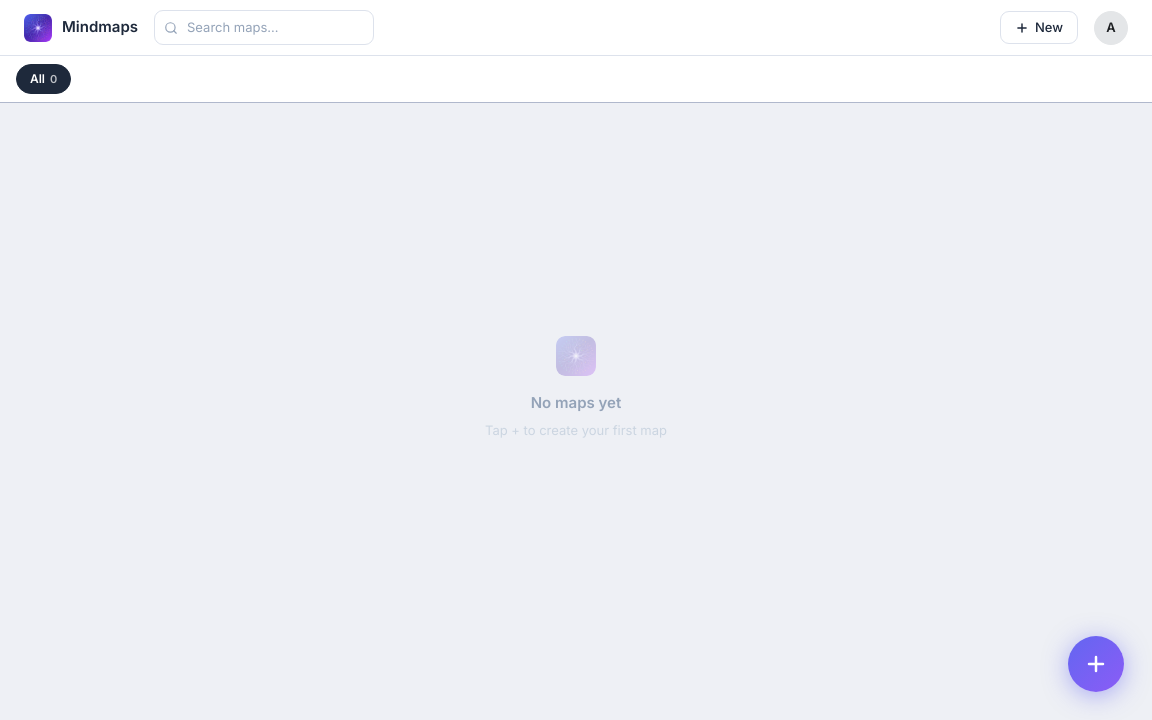
Scenario: HomePage — user menu & import › opens the import modal from the user menu
Click the button titled "Alice": (1111, 28) top-left (1094, 10), bottom-right (1128, 44)
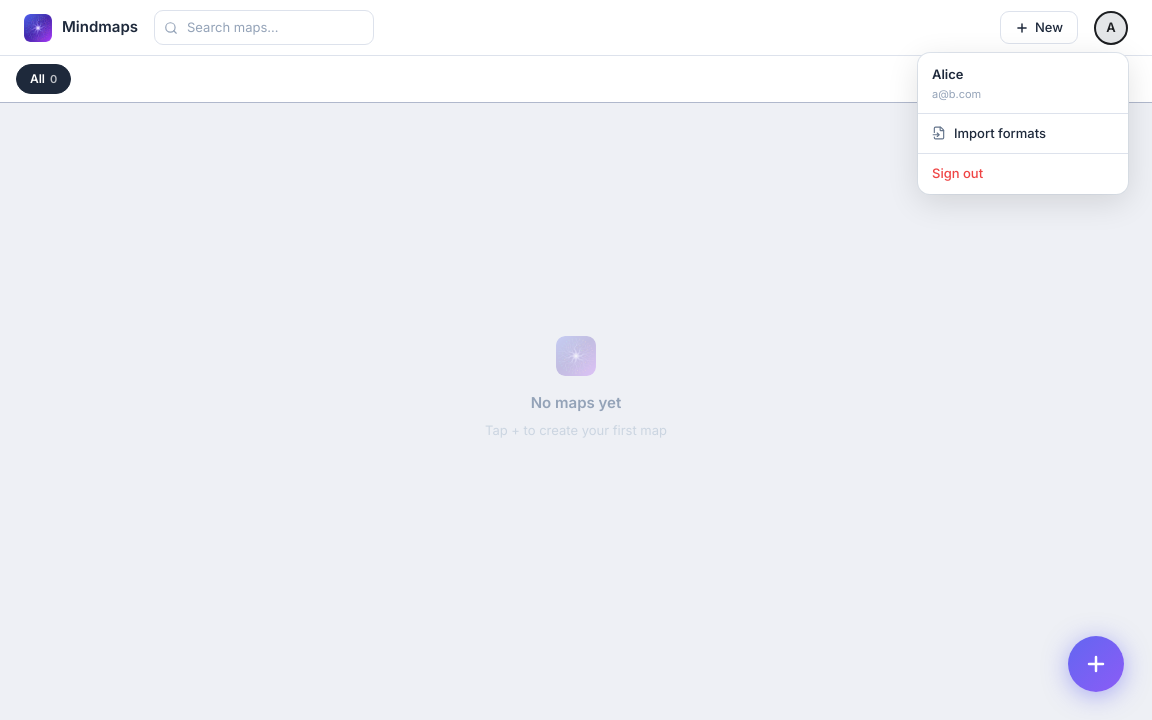
Click the button "Import formats": (1023, 134) top-left (918, 114), bottom-right (1128, 154)
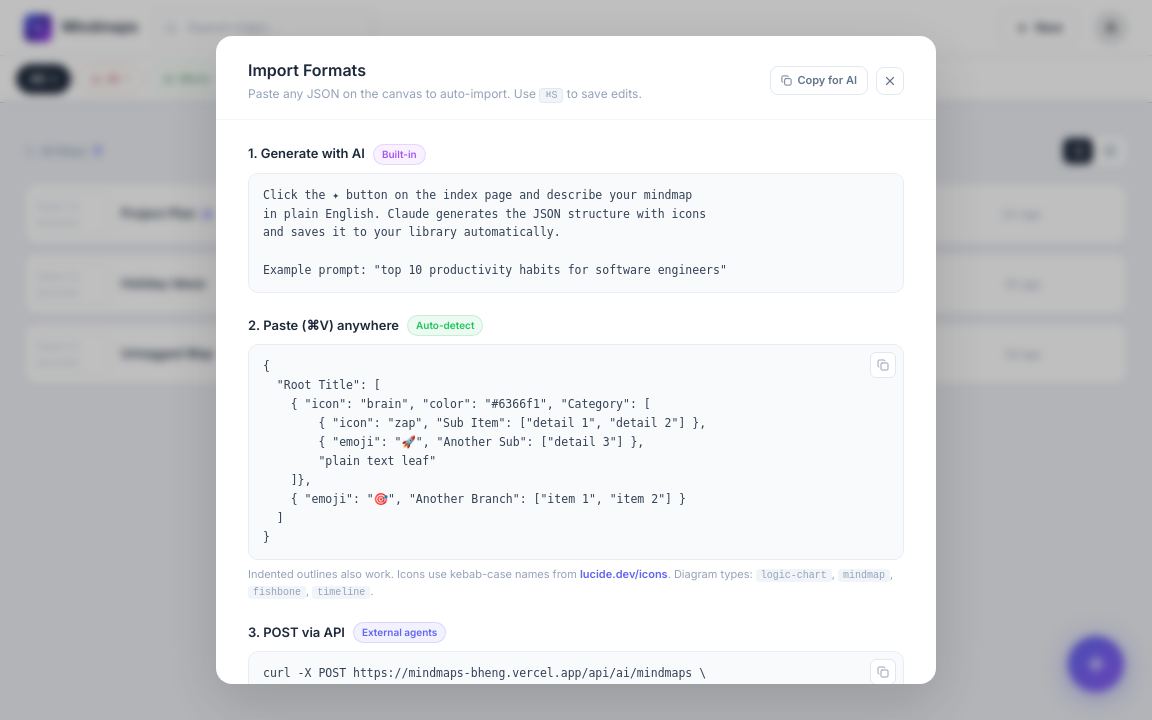
Check: the heading "Import Formats" is shown, box top-left (248, 60), bottom-right (366, 80)
Check: the button "Sign out" is gone
